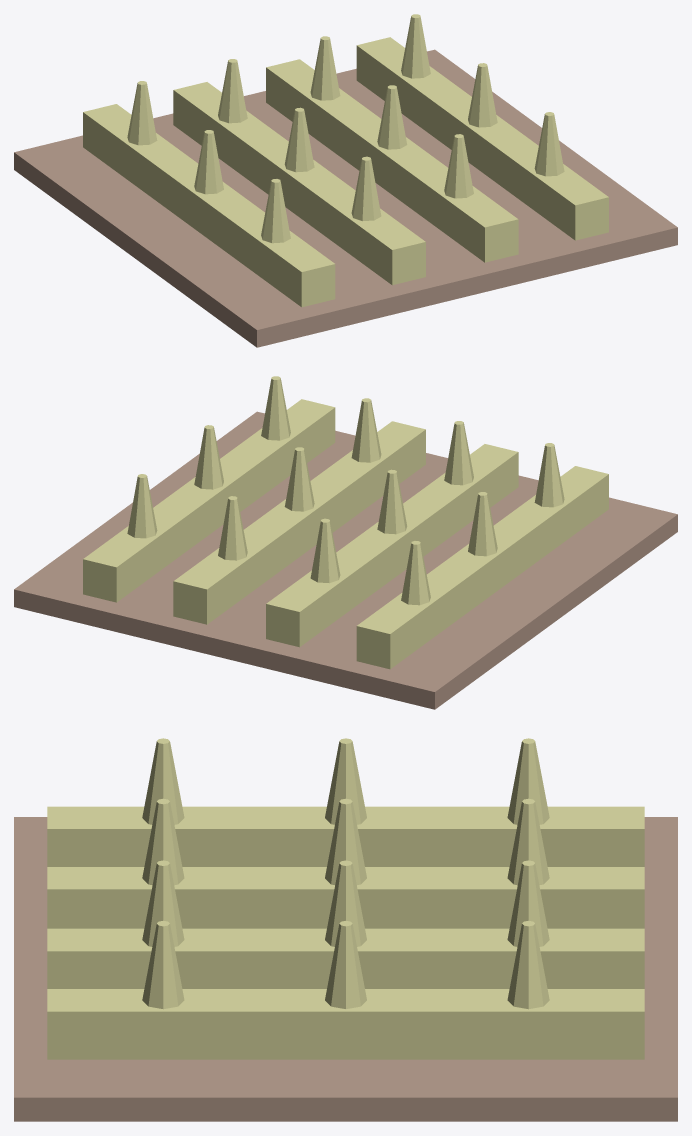
File: crop-wheat.glb
3 renders of one model, top to bottom at view 1: azimuth 30°, elevation 25°; view 2: azimuth 150°, elevation 25°; view 3: azimuth 270°, elevation 25°, orthographic. The views are drawn at different scales.
Parts seen in each view (by area): view 1: crop-wheat; view 2: crop-wheat; view 3: crop-wheat.
Part boxes in pixels (x1,y1,x2,y2): crop-wheat: (14, 14, 677, 347); crop-wheat: (14, 376, 677, 709); crop-wheat: (14, 738, 677, 1121).
Size of the model in its own units: 2 by 0.495 by 2.
